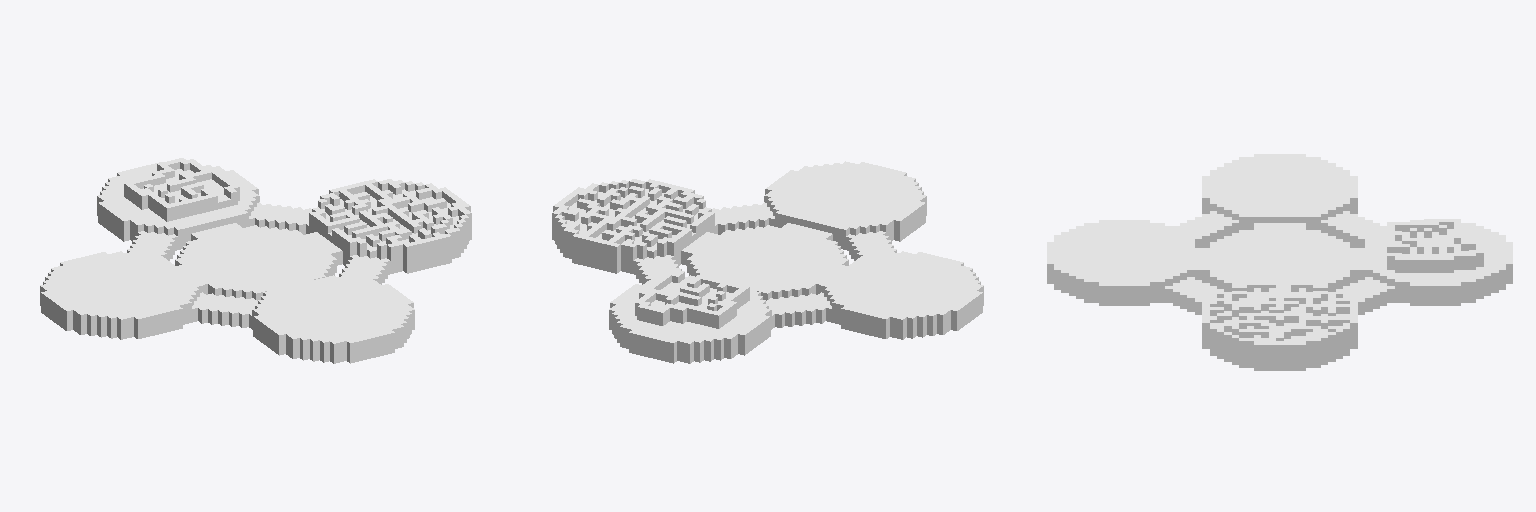
File: hub.obj
3 renders of one model, left to right at view 1: azimuth 30°, elevation 25°; view 2: azimuth 150°, elevation 25°; view 3: azimuth 270°, elevation 25°, orthographic.
Parts seen in each view (by area): view 1: object 1; view 2: object 1; view 3: object 1.
Part boxes in pixels (left/top/right/bottom): object 1: left=40, top=158, right=471, bottom=363; object 1: left=552, top=161, right=983, bottom=363; object 1: left=1047, top=154, right=1512, bottom=370.
Bounding box in the file's own units: 25.2 × 2 × 25.2.